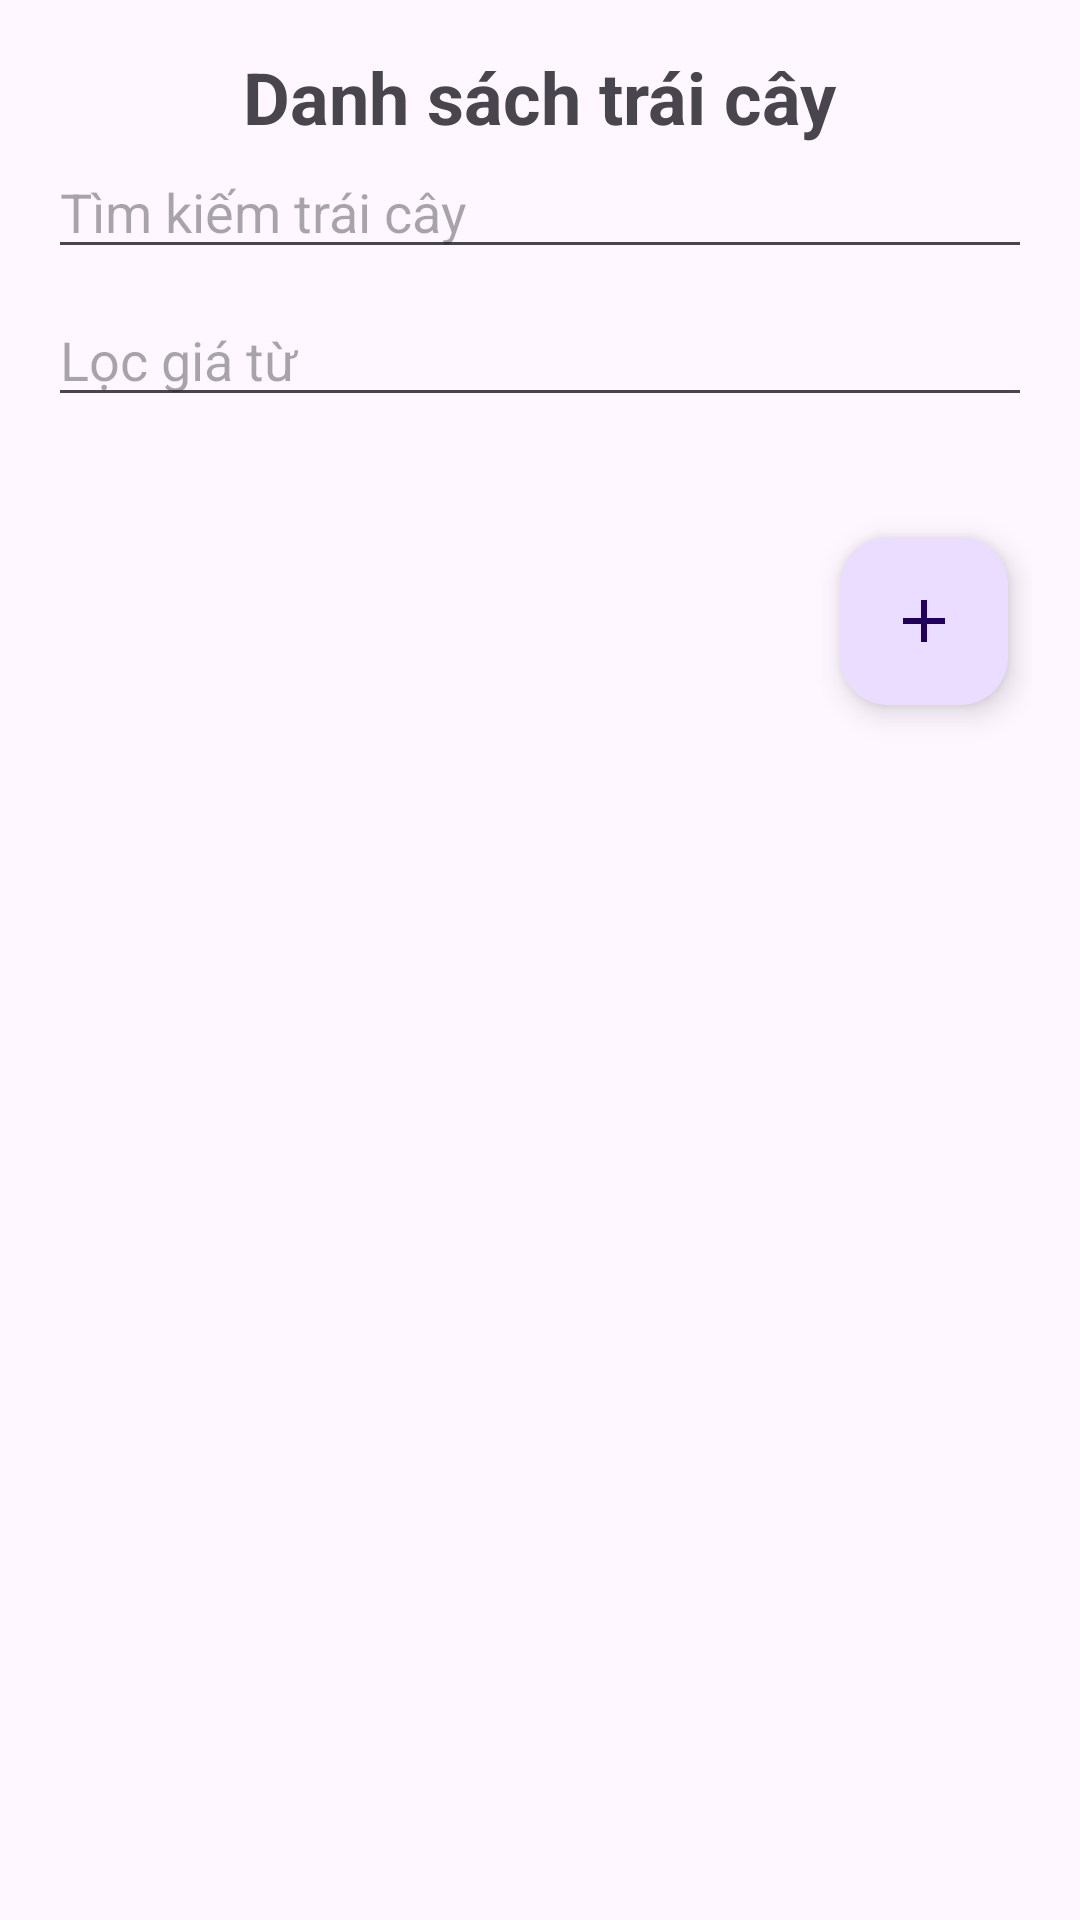

Icons on this 1080px×1920px Android screen, each with the point to tap as [x,y]:
Thêm trái cây: [924,621]
